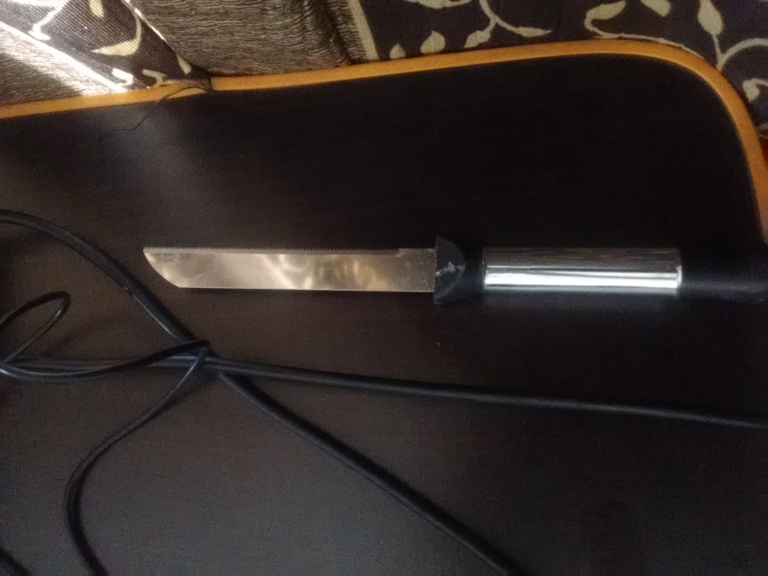knife: (138, 232, 768, 309)
